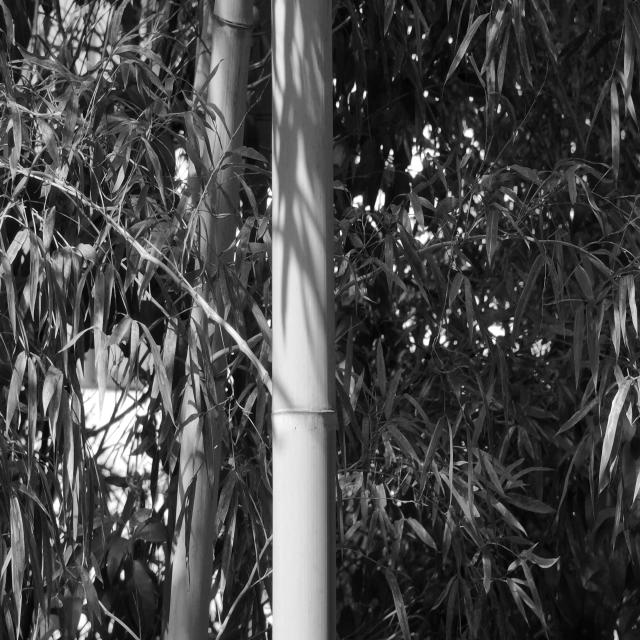Bamboo-shoots: (272, 0, 337, 640)
